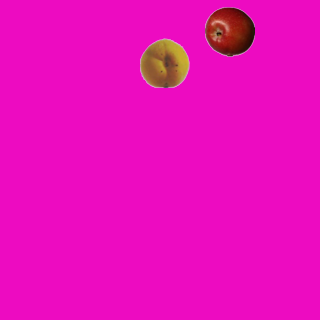Apple Braeburn: (204, 6, 254, 56)
Peach 2: (139, 37, 189, 87)
